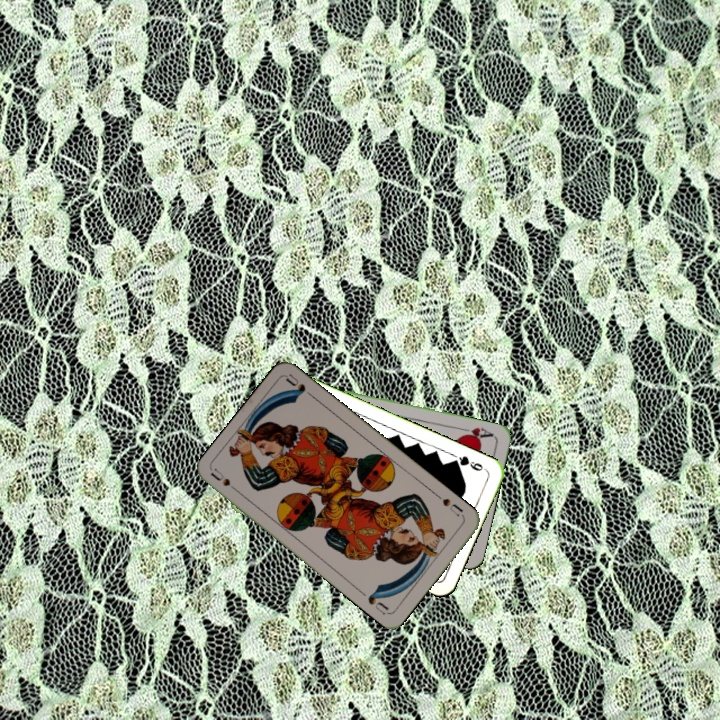G9: (449, 452, 489, 474)
HA: (455, 423, 496, 443)
SU: (207, 465, 244, 497), (432, 490, 465, 519)
